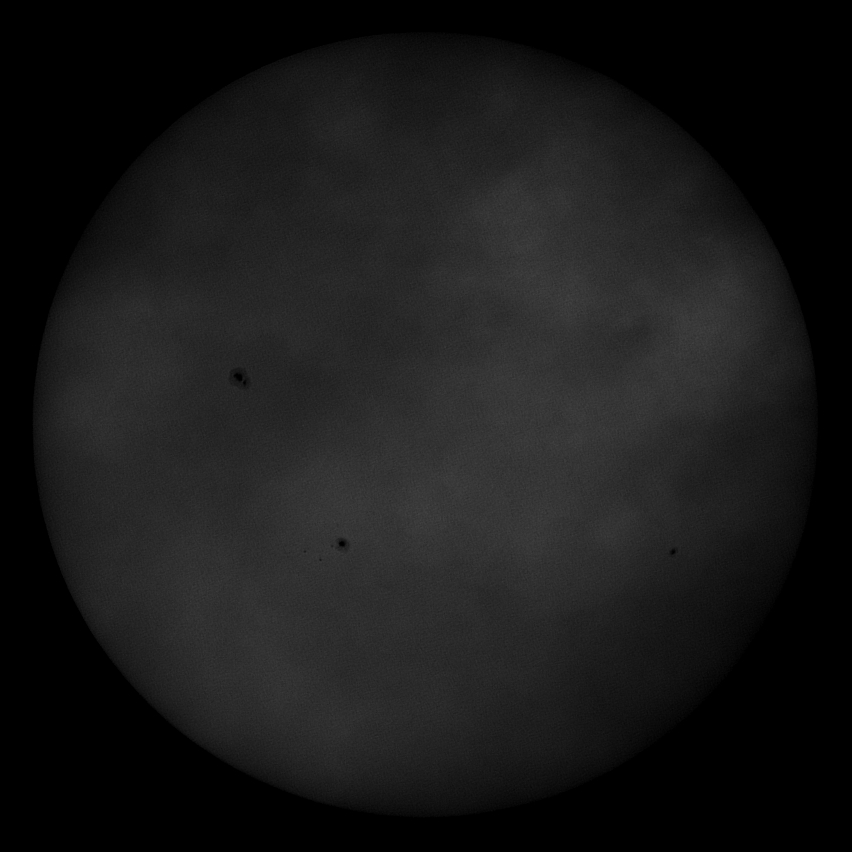sunspot: (224, 363, 250, 393), (331, 531, 353, 555), (666, 544, 683, 562)
